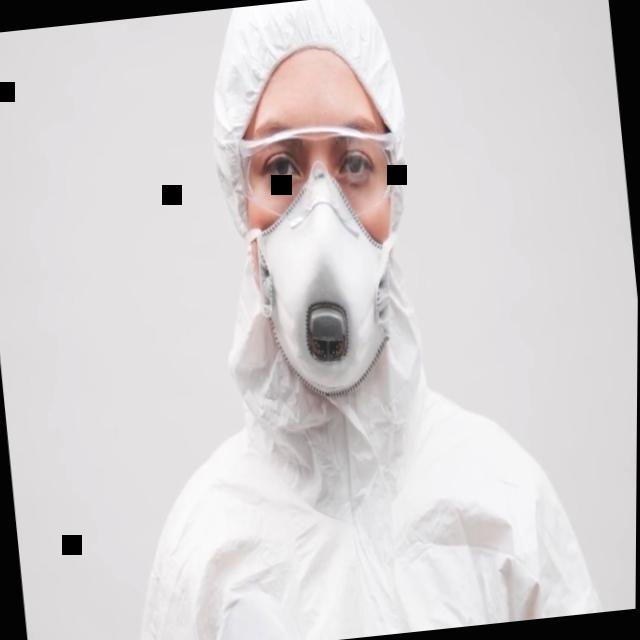Mask: (236, 101, 419, 402)
